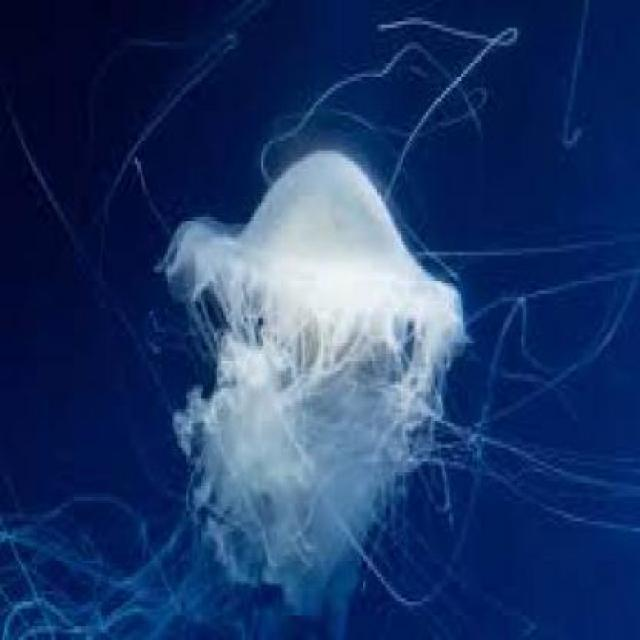Jellyfish: (144, 130, 473, 616)
